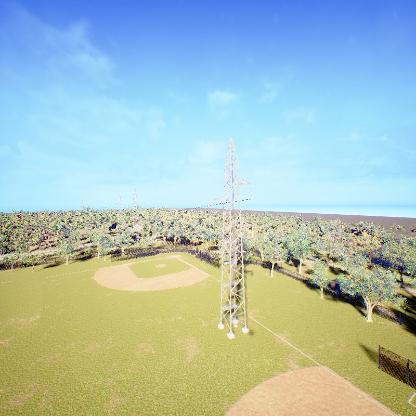tower: (216, 136, 251, 342)
